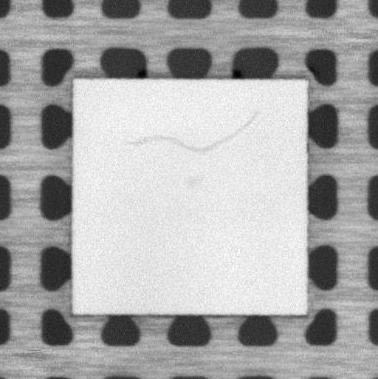DIE_CRACK: (129, 110, 263, 150)
